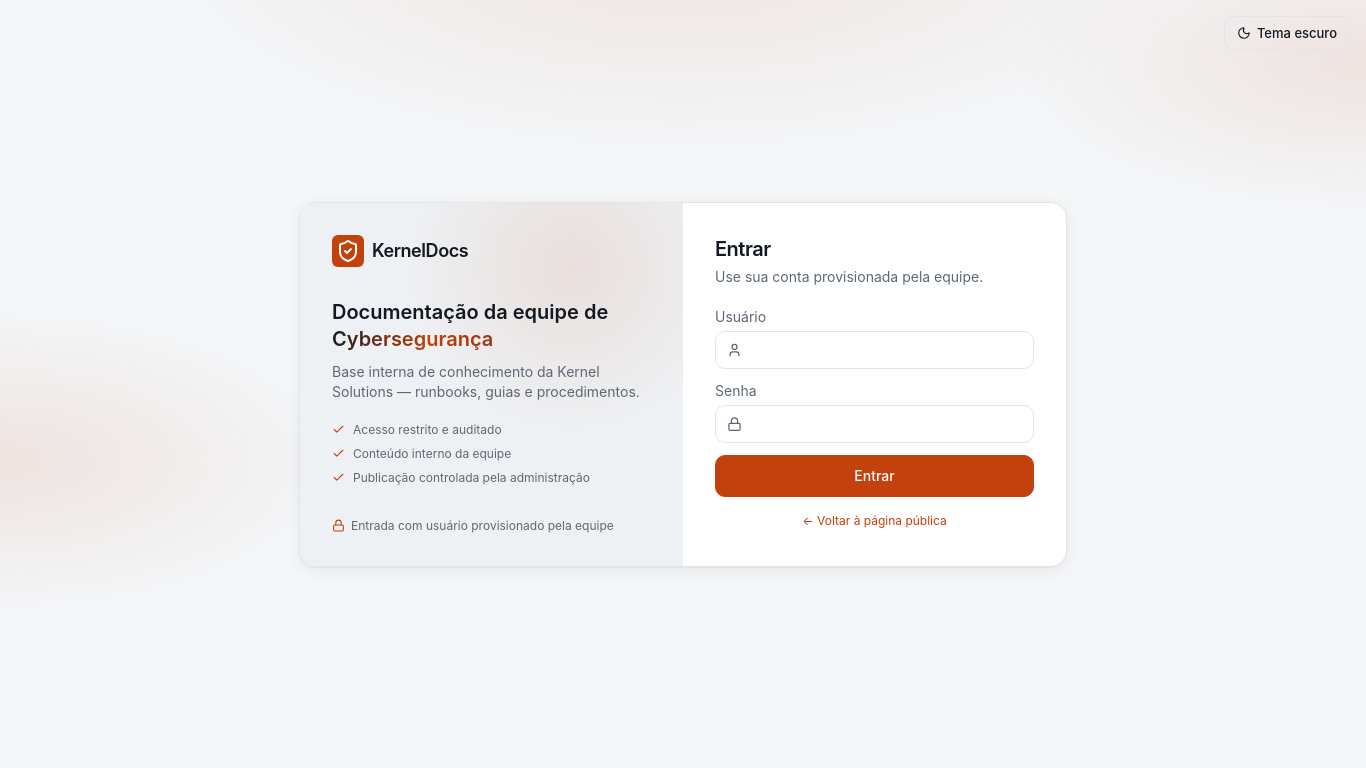
Test case: LoginPage › exibe a mensagem do envelope de erro (401)
Step 1. Type "felipe.rosa" into the field labelled "Usuário" → (874, 350), box [715,330,1034,368]
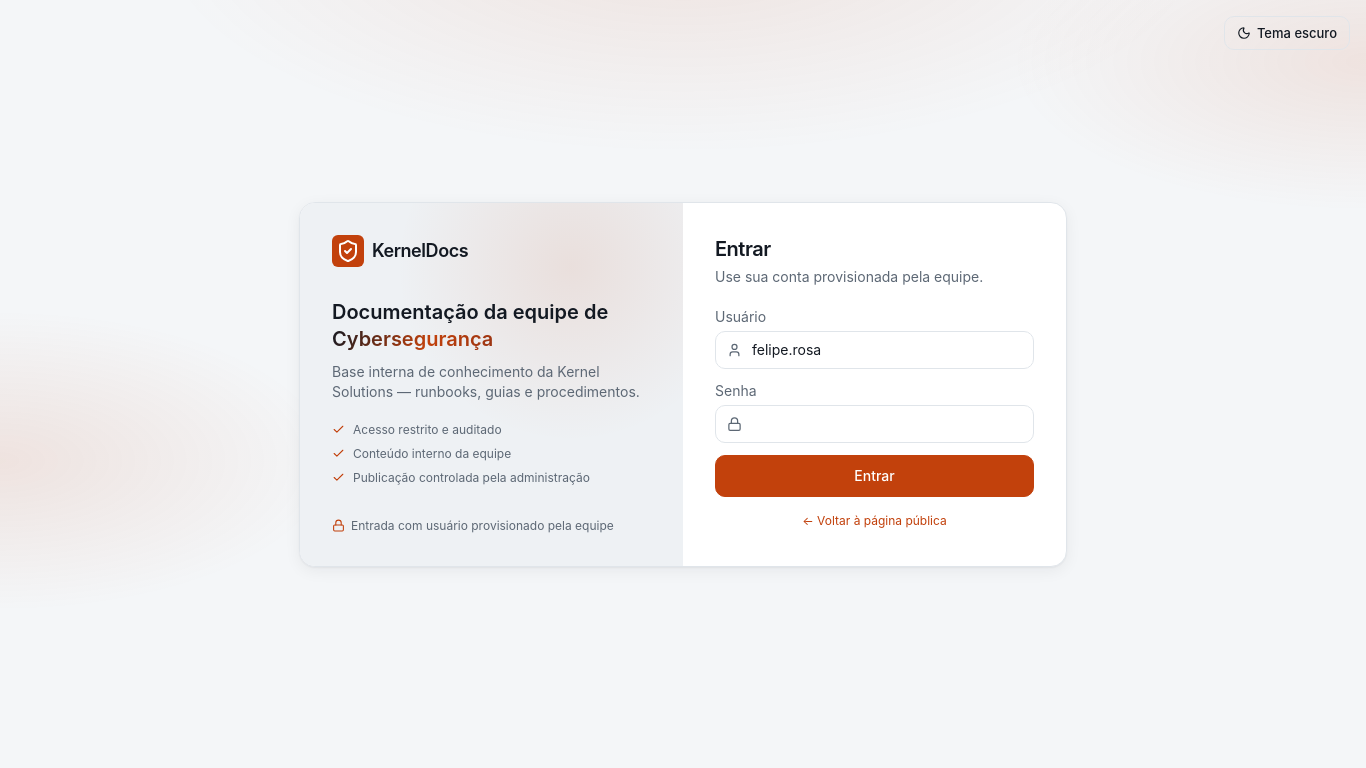
Step 2. Type "senha-errada" into the password field labelled "Senha" → (874, 424), box [715,404,1034,442]
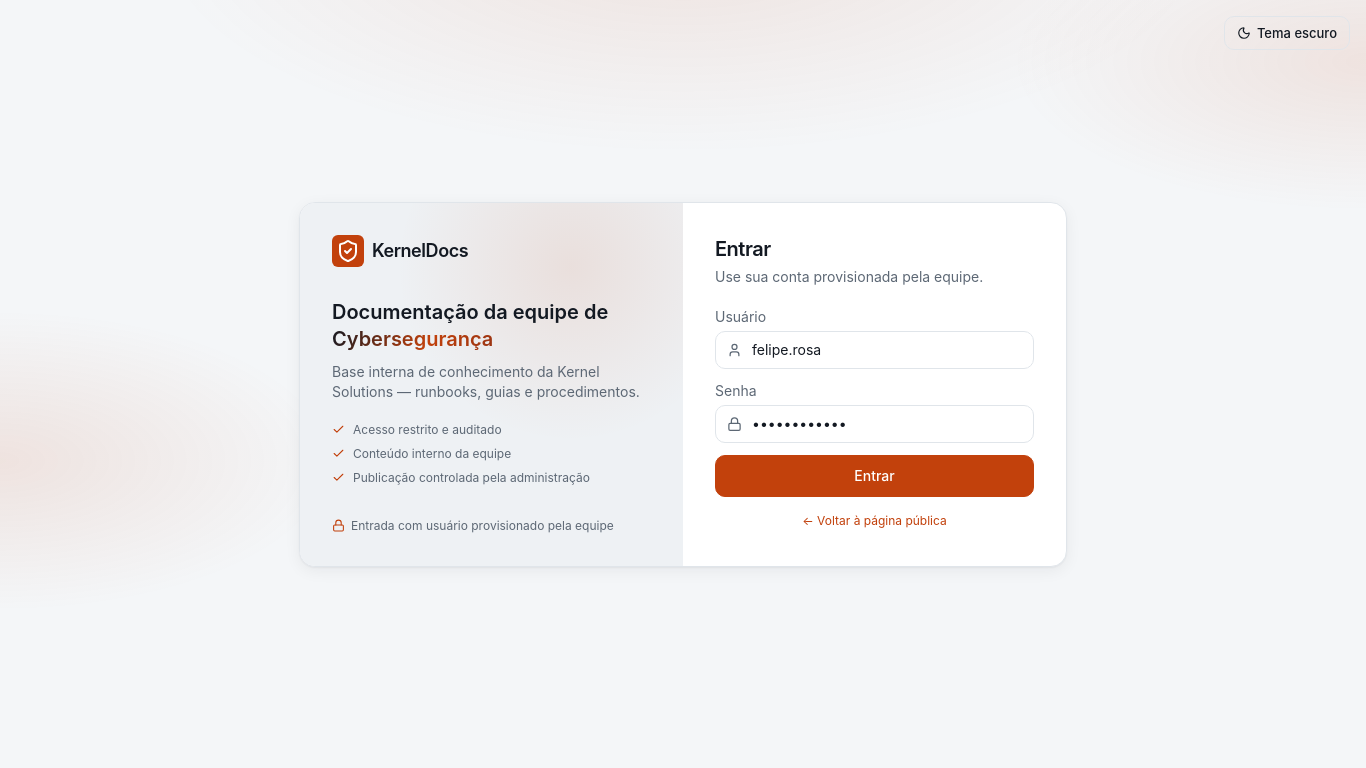
Step 3. Click the button "Entrar" → (874, 476), box [715,454,1034,496]
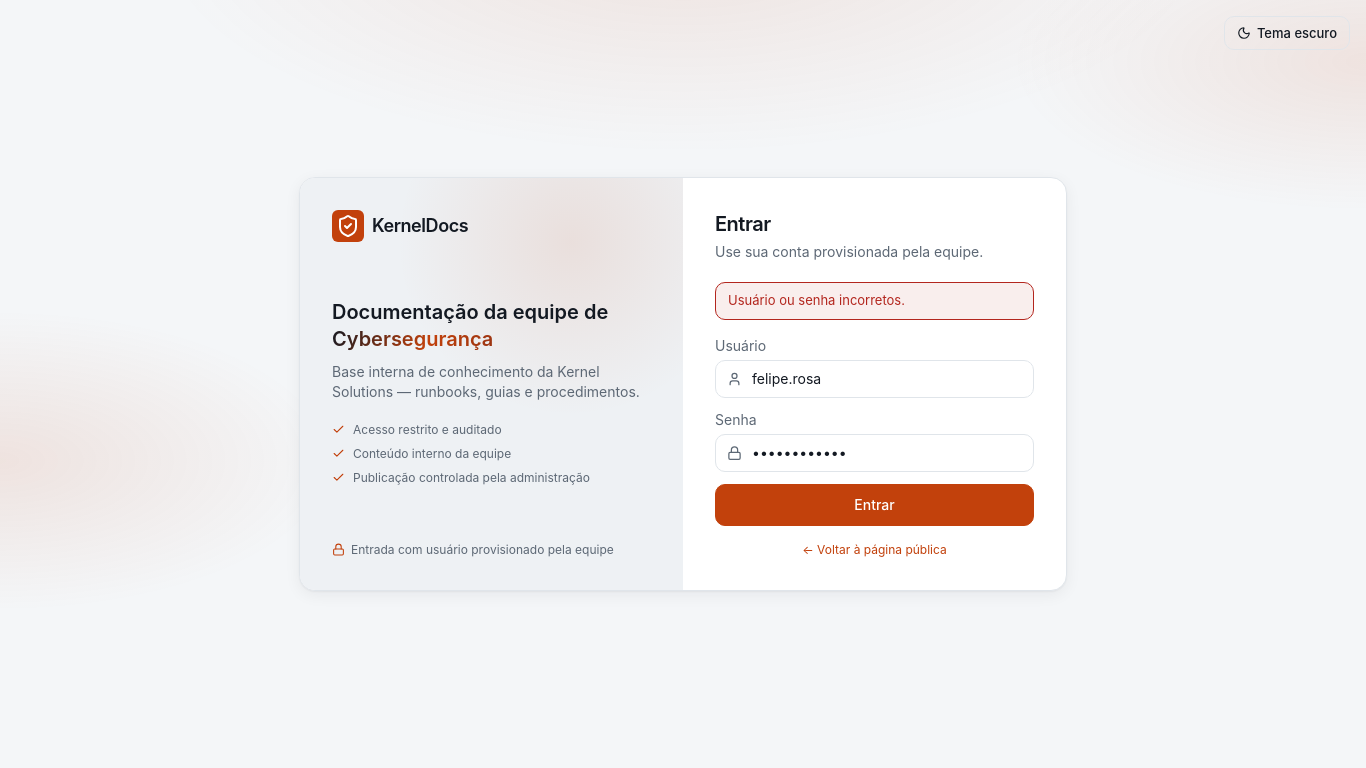
Result: the message reads "Usuário ou senha incorretos." at [728,292,905,308]
